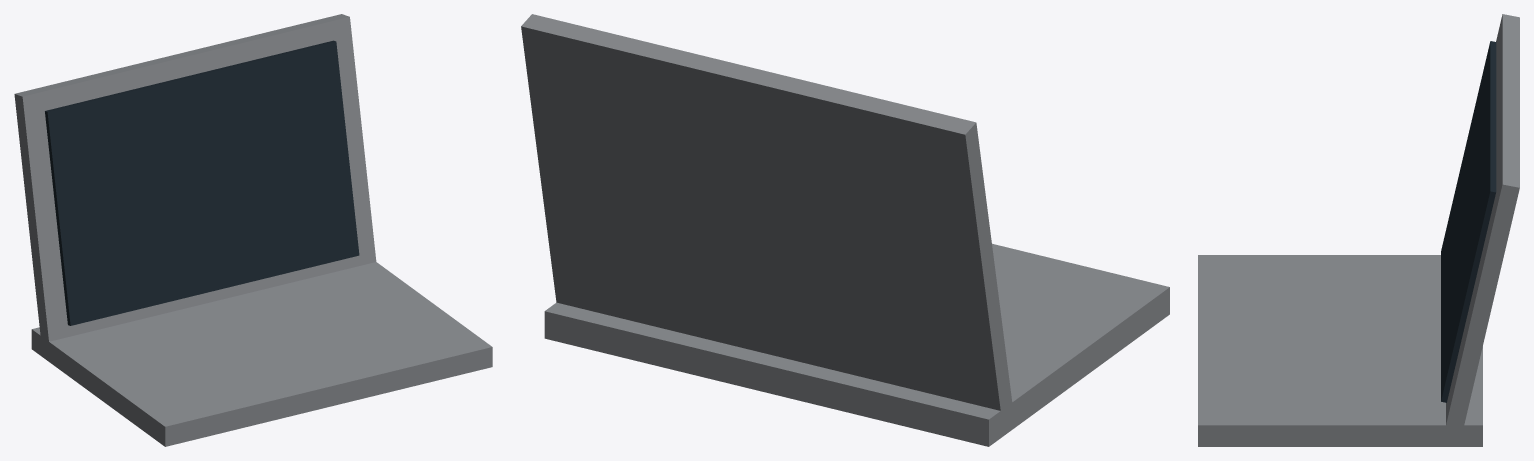
The model's file is GD_Laptop_01.glb.
3 views of the same model, side by side, from view 1: azimuth 30°, elevation 25°; view 2: azimuth 150°, elevation 25°; view 3: azimuth 270°, elevation 25° (orthographic). The views are drawn at different scales.
Parts seen in each view (by area): view 1: GD_Laptop_01; view 2: GD_Laptop_01; view 3: GD_Laptop_01.
Boxes of the visible parts, box(x1,y1,x2,y2) form: GD_Laptop_01: box(14, 14, 492, 446); GD_Laptop_01: box(521, 14, 1169, 446); GD_Laptop_01: box(1198, 14, 1519, 446).
Size of the model in its own units: 0.34 by 0.244 by 0.2712.
1 material, 1 textured.
